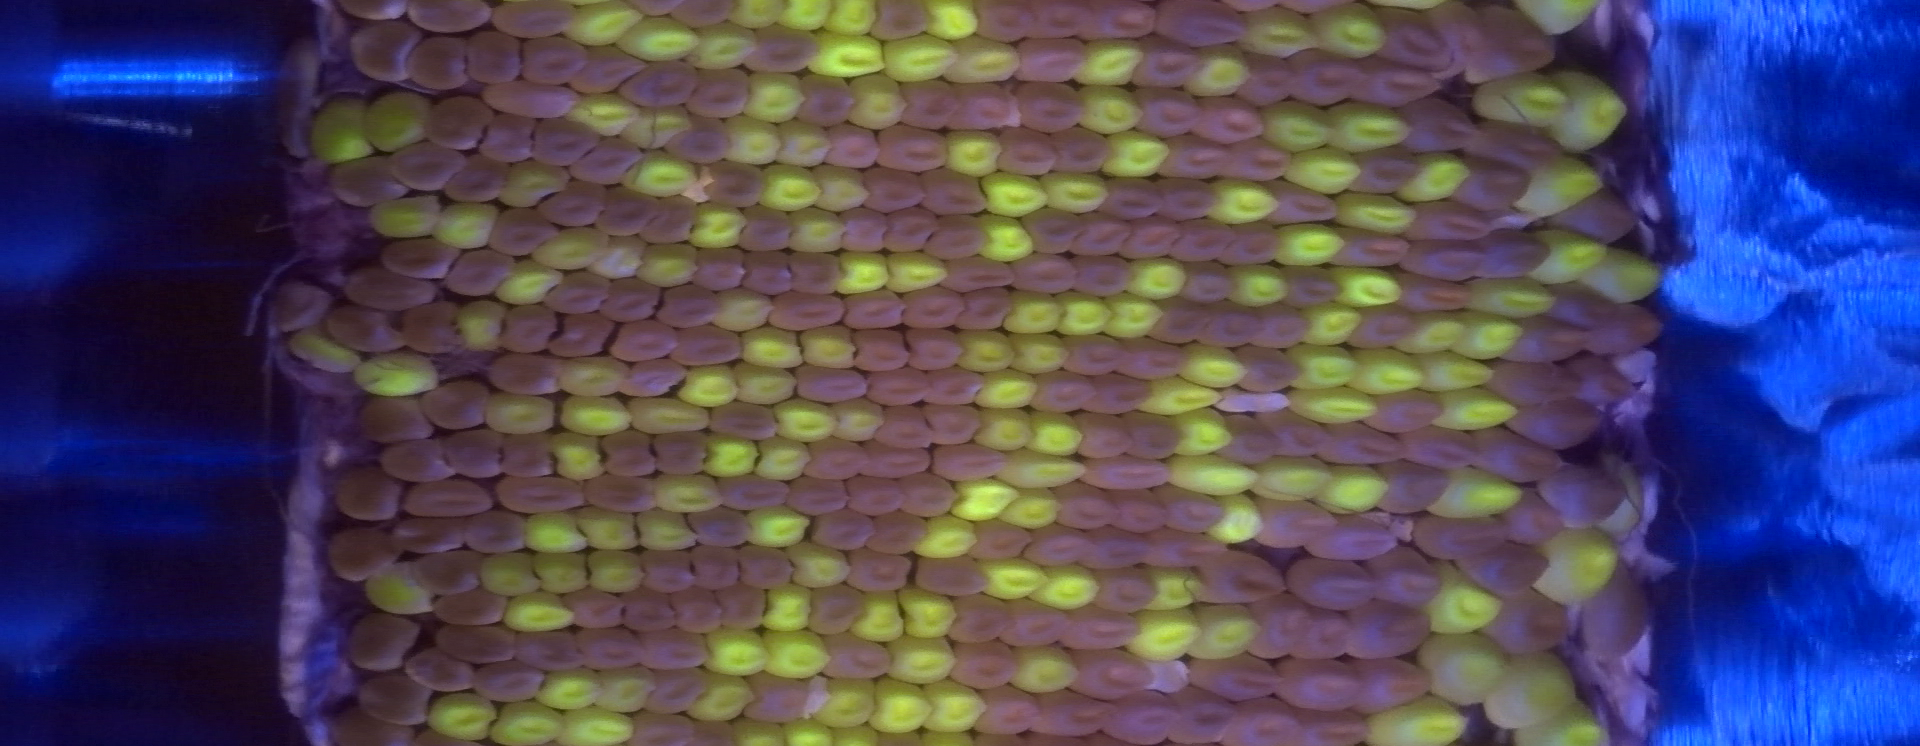fluorescent: (1480, 636, 1584, 739), (1411, 619, 1515, 710), (1526, 522, 1633, 610), (1542, 61, 1640, 158), (1411, 554, 1517, 642), (1469, 59, 1589, 136), (1509, 145, 1618, 227), (1573, 239, 1674, 314), (1360, 685, 1480, 746), (1318, 96, 1429, 160), (1425, 461, 1534, 526), (298, 88, 383, 170), (347, 342, 452, 407), (1389, 145, 1487, 213), (1254, 91, 1348, 162), (1180, 599, 1272, 671), (1518, 222, 1614, 290), (1242, 451, 1343, 514), (1460, 267, 1569, 325), (1277, 138, 1375, 202), (1174, 36, 1262, 105), (354, 87, 437, 160), (1303, 1, 1398, 65), (1163, 448, 1271, 505), (1400, 342, 1505, 399), (1509, 688, 1614, 746), (855, 673, 943, 741), (1120, 601, 1209, 670), (1228, 2, 1329, 62), (1307, 456, 1397, 522), (800, 27, 898, 87), (911, 674, 998, 741), (937, 33, 1032, 94), (686, 657, 765, 730), (609, 10, 708, 69), (1427, 382, 1529, 439), (415, 685, 509, 746), (1329, 183, 1423, 244), (694, 621, 785, 685), (355, 559, 442, 625), (1342, 341, 1438, 401), (1451, 304, 1536, 371), (1280, 382, 1392, 432), (1166, 339, 1258, 401), (1000, 638, 1089, 702), (549, 348, 642, 408), (845, 70, 922, 142), (1265, 214, 1356, 276), (278, 325, 372, 383), (888, 579, 969, 648), (1067, 78, 1153, 142), (1065, 31, 1153, 93), (492, 153, 580, 216), (569, 499, 654, 563), (623, 390, 722, 445), (931, 125, 1018, 187), (673, 18, 768, 76), (1162, 401, 1245, 465), (880, 31, 972, 89), (551, 388, 649, 443), (880, 630, 969, 691), (648, 464, 737, 524), (1025, 559, 1114, 619), (1282, 336, 1371, 396), (806, 671, 891, 734), (1138, 371, 1232, 428), (1392, 305, 1477, 367), (996, 443, 1095, 496), (969, 551, 1056, 611), (615, 147, 705, 205), (792, 316, 872, 381), (969, 207, 1049, 271), (588, 659, 669, 722), (516, 502, 605, 559), (1202, 485, 1277, 552), (748, 158, 831, 218), (628, 234, 711, 294), (480, 696, 579, 746), (738, 65, 818, 127), (1322, 261, 1417, 314), (560, 87, 651, 141), (702, 281, 782, 342), (778, 537, 858, 598), (529, 220, 615, 278), (620, 96, 702, 156), (732, 318, 814, 379), (756, 624, 838, 684), (553, 1, 651, 51), (1018, 404, 1095, 468), (491, 584, 585, 636), (358, 191, 449, 244), (471, 545, 553, 604), (475, 387, 564, 441), (1200, 173, 1283, 230), (874, 244, 958, 301), (765, 391, 849, 448), (902, 510, 986, 567), (1095, 125, 1174, 185), (718, 111, 791, 176), (972, 165, 1057, 222), (1032, 167, 1120, 220), (531, 658, 612, 717), (1138, 562, 1215, 624), (965, 401, 1043, 461), (1296, 296, 1374, 356), (842, 584, 913, 650), (735, 496, 818, 552), (1095, 287, 1174, 345), (994, 287, 1078, 342), (429, 196, 508, 254), (969, 365, 1048, 423), (1220, 254, 1296, 314), (1048, 285, 1125, 344), (629, 502, 707, 561), (582, 544, 660, 601), (549, 701, 648, 746), (825, 245, 905, 301), (448, 292, 516, 358), (525, 544, 602, 601), (726, 359, 808, 413), (491, 254, 569, 310), (1002, 327, 1080, 383), (804, 160, 878, 220), (947, 473, 1026, 528), (780, 201, 855, 258), (542, 425, 611, 488), (754, 578, 823, 641), (749, 432, 825, 488), (696, 425, 769, 481), (683, 198, 757, 254), (948, 327, 1025, 379), (991, 481, 1065, 534), (768, 118, 838, 174), (827, 390, 891, 450), (671, 361, 744, 414), (588, 232, 658, 285), (1125, 251, 1194, 305), (918, 1, 987, 48), (817, 1, 887, 44), (774, 1, 838, 39), (722, 1, 792, 36)
nonfluorescent: (1575, 552, 1658, 668), (1462, 1, 1562, 96), (1360, 4, 1464, 85), (1337, 590, 1442, 668), (1482, 581, 1577, 664), (1280, 548, 1391, 619), (1458, 113, 1572, 181), (1343, 650, 1449, 724), (1540, 456, 1632, 539), (1266, 648, 1371, 719), (1464, 423, 1573, 491), (1194, 541, 1298, 612), (1358, 539, 1452, 616), (1392, 88, 1488, 164), (1480, 352, 1596, 414), (336, 608, 432, 681), (1247, 488, 1346, 559), (1188, 644, 1294, 710), (1505, 390, 1611, 456), (1294, 510, 1408, 570), (345, 13, 425, 98), (320, 149, 418, 218), (1344, 50, 1453, 111), (1457, 537, 1558, 601), (1022, 685, 1129, 745), (1283, 44, 1378, 111), (1446, 151, 1540, 218), (317, 519, 411, 587), (1558, 344, 1648, 414), (377, 136, 474, 201), (1314, 414, 1411, 479), (864, 114, 962, 178), (1067, 642, 1162, 707), (1560, 181, 1646, 254), (1409, 510, 1515, 568), (1122, 24, 1209, 96), (1500, 310, 1603, 370), (394, 29, 482, 99), (1466, 225, 1560, 290), (563, 38, 655, 104), (1142, 1, 1260, 53), (1368, 454, 1457, 522), (478, 345, 576, 407), (318, 301, 414, 364), (1578, 296, 1665, 365), (1052, 598, 1151, 658), (478, 76, 591, 127), (334, 265, 448, 316), (1242, 587, 1318, 664), (509, 27, 598, 93), (1251, 402, 1340, 468), (394, 473, 504, 526), (1188, 85, 1272, 153), (1494, 488, 1578, 556), (1402, 196, 1502, 254), (1322, 222, 1420, 281), (1213, 690, 1315, 746), (1146, 477, 1234, 541), (454, 24, 538, 93), (906, 544, 996, 608), (345, 391, 442, 450), (414, 372, 500, 439), (634, 659, 729, 719), (615, 53, 702, 118), (1397, 233, 1495, 290), (1255, 173, 1351, 232), (587, 179, 675, 243), (812, 624, 900, 687), (994, 590, 1082, 654), (323, 461, 407, 528), (425, 619, 529, 673), (737, 664, 820, 731), (480, 201, 571, 262), (1391, 418, 1485, 477), (1135, 521, 1238, 575), (1160, 682, 1247, 746), (463, 650, 555, 710), (398, 642, 486, 704), (937, 587, 1020, 653), (1280, 601, 1363, 668), (1542, 276, 1626, 341), (392, 293, 471, 361), (454, 503, 540, 567), (351, 668, 438, 730), (409, 539, 492, 604), (520, 113, 609, 174), (1100, 685, 1188, 746), (1382, 265, 1478, 321), (485, 470, 598, 518), (1005, 29, 1095, 89), (1122, 85, 1211, 145), (1102, 478, 1182, 545), (1052, 325, 1138, 387), (418, 88, 498, 154), (431, 424, 514, 488), (838, 539, 922, 601), (740, 20, 829, 78), (562, 134, 649, 194), (508, 622, 595, 682), (969, 681, 1056, 741), (1360, 383, 1451, 441), (552, 579, 636, 642), (577, 465, 671, 521), (909, 162, 997, 220), (438, 148, 523, 209), (258, 271, 338, 336), (1228, 336, 1308, 401), (371, 436, 467, 490), (534, 173, 620, 233), (425, 579, 518, 635), (789, 354, 876, 413), (680, 61, 757, 127), (798, 576, 876, 642), (1213, 407, 1292, 472), (1060, 247, 1149, 305), (1191, 294, 1271, 358), (372, 232, 468, 284), (1049, 477, 1131, 538), (849, 434, 942, 488), (891, 73, 969, 138), (852, 160, 936, 220), (943, 635, 1026, 695), (591, 423, 671, 485), (1089, 559, 1168, 621), (1018, 518, 1106, 575), (1145, 167, 1226, 228), (1111, 405, 1191, 467), (954, 513, 1043, 568), (1065, 407, 1142, 470), (1074, 519, 1157, 578), (571, 619, 649, 681), (1020, 365, 1104, 423), (632, 622, 720, 677), (942, 73, 1022, 134), (662, 318, 754, 371), (1043, 124, 1125, 183), (465, 108, 542, 170), (437, 245, 527, 299), (1011, 76, 1091, 136), (489, 299, 568, 359), (629, 541, 709, 601), (912, 361, 997, 418), (680, 534, 754, 598), (858, 361, 940, 419), (1078, 453, 1182, 499), (1091, 170, 1174, 227), (1075, 367, 1162, 421), (1112, 330, 1191, 388), (922, 439, 1018, 488), (709, 470, 804, 519), (1063, 205, 1140, 265), (891, 464, 969, 524), (1232, 45, 1300, 113), (758, 287, 852, 336), (611, 353, 697, 407), (1428, 1, 1494, 71), (634, 187, 707, 251), (1005, 247, 1089, 303), (1153, 131, 1240, 184), (789, 70, 864, 130), (1343, 299, 1425, 354), (535, 307, 622, 359), (913, 398, 994, 453), (804, 503, 885, 559), (711, 573, 778, 641), (320, 699, 415, 746), (647, 423, 718, 485), (1218, 134, 1300, 187), (531, 265, 613, 318), (917, 208, 996, 265), (729, 539, 802, 599), (386, 510, 471, 561), (1269, 258, 1352, 311), (682, 501, 765, 554), (492, 428, 568, 485), (602, 314, 683, 367), (697, 158, 774, 214), (612, 579, 684, 639), (845, 323, 920, 381), (589, 273, 669, 327), (838, 470, 917, 524), (1242, 298, 1318, 354), (1142, 292, 1218, 348), (1288, 701, 1382, 746), (931, 251, 1020, 299), (649, 279, 726, 334), (660, 113, 733, 170), (729, 201, 802, 258), (835, 285, 913, 339), (707, 394, 785, 448), (895, 282, 975, 334), (782, 243, 852, 303), (1162, 213, 1238, 268), (1212, 218, 1288, 273), (866, 401, 942, 456), (780, 472, 863, 522), (989, 124, 1062, 181), (732, 245, 804, 303), (1346, 145, 1427, 196), (1018, 205, 1095, 258), (1114, 208, 1188, 265), (669, 582, 733, 646), (894, 321, 972, 374), (1078, 1, 1164, 48), (954, 282, 1022, 341), (482, 1, 582, 42), (797, 434, 874, 485), (876, 202, 943, 261), (820, 119, 889, 176), (860, 508, 938, 559), (831, 202, 898, 261), (1176, 254, 1243, 310), (397, 1, 498, 38), (688, 241, 756, 294), (863, 1, 939, 48), (618, 702, 698, 746), (1020, 1, 1096, 47), (969, 1, 1040, 48), (666, 1, 747, 38)
